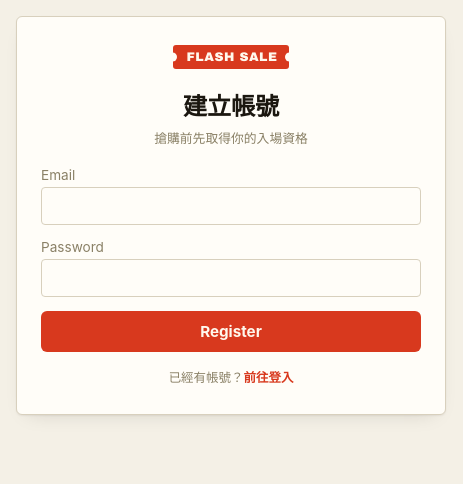
RegisterPage › shows the validation message instead of letting native browser validation swallow the submit
Step 1. Type "not-an-email" into the field labelled "Email" → coordinates (231, 206), box top-left (41, 187), bottom-right (421, 225)
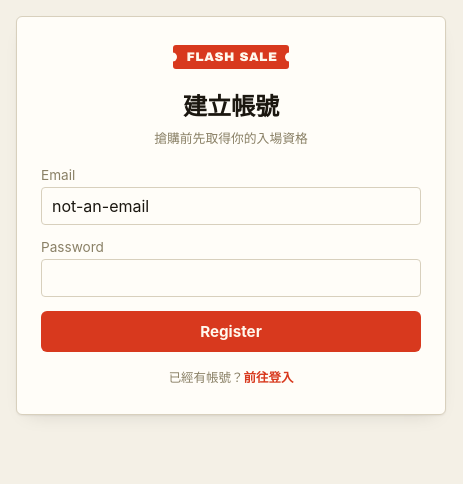
Step 2. Type "short" into the password field labelled "Password" → coordinates (231, 278), box top-left (41, 259), bottom-right (421, 297)
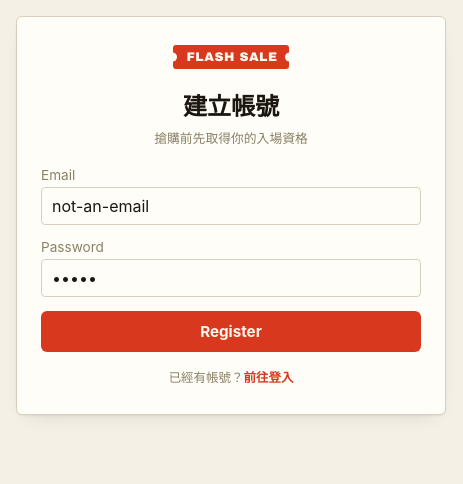
Step 3. Click the button "Register" → coordinates (231, 332), box top-left (41, 311), bottom-right (421, 352)
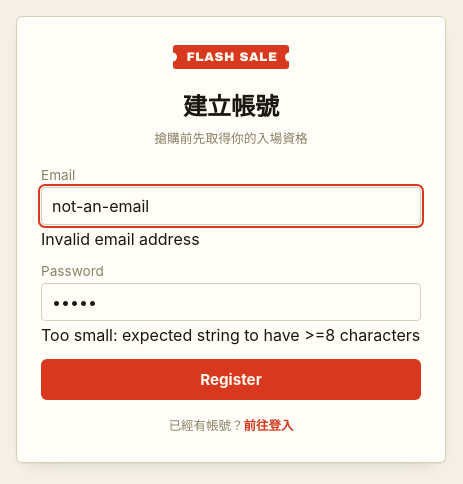
Now the 1st message is shown, box top-left (41, 229), bottom-right (200, 249)
